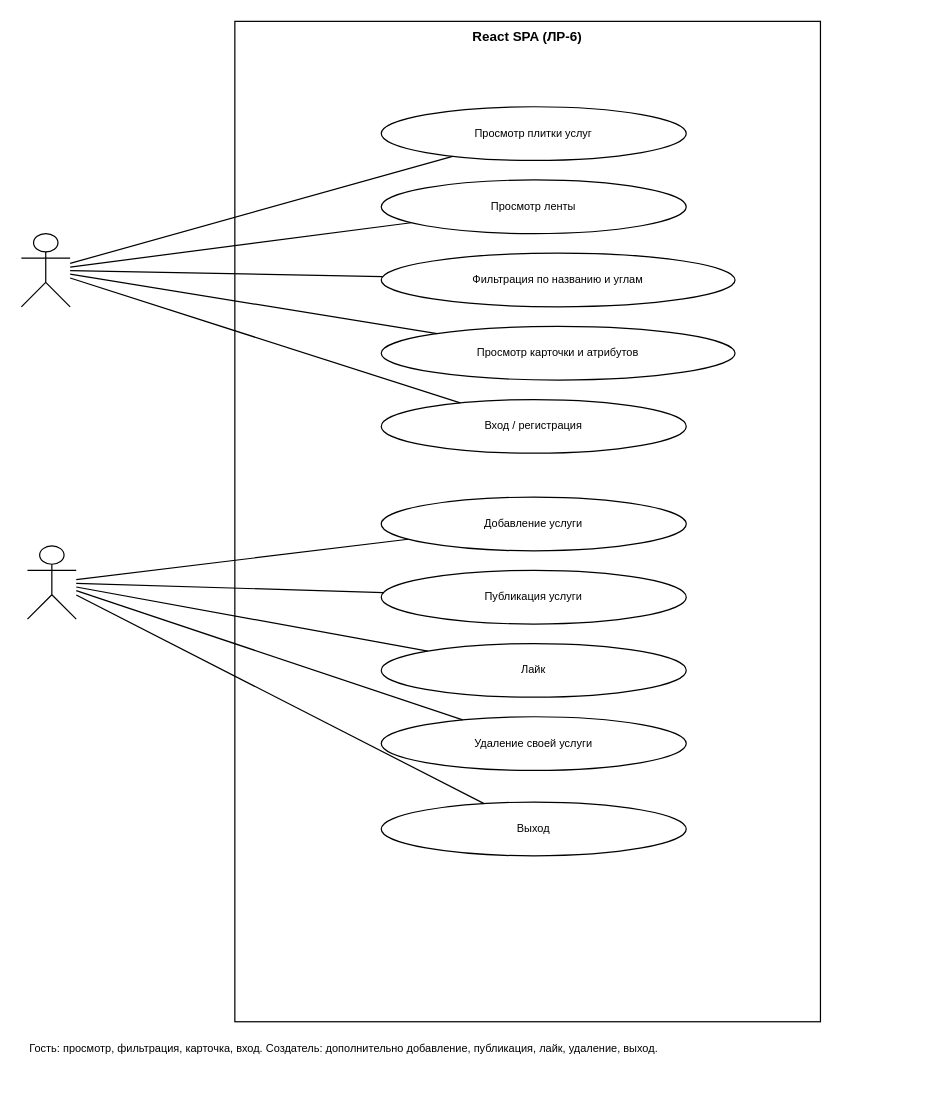
Some shapes in this 927 by 1104 pixel diagram are drawn without their labels. Here are the shapes that lost their labels. From the top down, the centre of each, then its label:
At point 45,269: "Гость".
At point 51,582: "Создатель".
